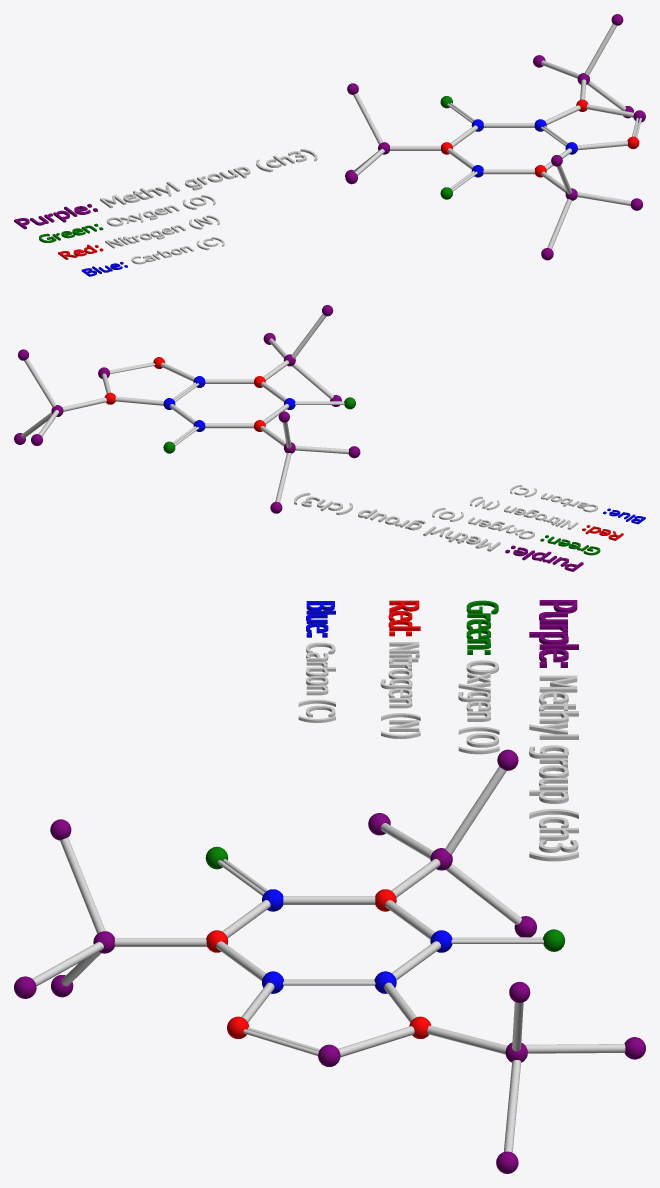
Rendered from caffeinemolecule.dae.
3 renders of one model, top to bottom at view 1: azimuth 30°, elevation 25°; view 2: azimuth 150°, elevation 25°; view 3: azimuth 270°, elevation 25°, orthographic. The views are drawn at different scales.
Parts seen in each view (by area): view 1: Purple__Methyl_g, Group1, Green__Oxygen__O, Red__Nitrogen__N, Blue__Carbon__C_, Group44, Group17; view 2: Purple__Methyl_g, Group1, Green__Oxygen__O, Red__Nitrogen__N, Blue__Carbon__C_, Group44; view 3: Purple__Methyl_g, Group1, Green__Oxygen__O, Red__Nitrogen__N, Blue__Carbon__C_, Group44, Group37, Group17, Group24, Group39, Group21, Group28 (+4 smaller).
Boxes of the visible parts, left/top/right/bottom form: Purple__Methyl_g: left=100, top=149, right=317, bottom=208; Group1: left=378, top=73, right=645, bottom=200; Green__Oxygen__O: left=39, top=195, right=215, bottom=242; Red__Nitrogen__N: left=58, top=215, right=219, bottom=259; Blue__Carbon__C_: left=81, top=237, right=224, bottom=276; Group44: left=14, top=204, right=97, bottom=229; Group17: left=541, top=155, right=642, bottom=260; Purple__Methyl_g: left=294, top=492, right=500, bottom=551; Group1: left=51, top=354, right=355, bottom=453; Green__Oxygen__O: left=432, top=507, right=600, bottom=555; Red__Nitrogen__N: left=470, top=496, right=623, bottom=540; Blue__Carbon__C_: left=510, top=484, right=645, bottom=524; Group44: left=505, top=545, right=583, bottom=571; Purple__Methyl_g: left=529, top=675, right=578, bottom=861; Group1: left=93, top=846, right=565, bottom=1066; Green__Oxygen__O: left=458, top=600, right=499, bottom=754; Red__Nitrogen__N: left=380, top=600, right=420, bottom=738; Blue__Carbon__C_: left=298, top=601, right=335, bottom=722; Group44: left=529, top=600, right=578, bottom=667; Group37: left=496, top=982, right=645, bottom=1173; Group17: left=14, top=819, right=73, bottom=998; Group24: left=368, top=749, right=536, bottom=937; Group39: left=525, top=1044, right=625, bottom=1053; Group21: left=60, top=837, right=105, bottom=933; Group28: left=445, top=766, right=506, bottom=854.
Bounding box in the file's own units: 13239 × 6724 × 2191.
